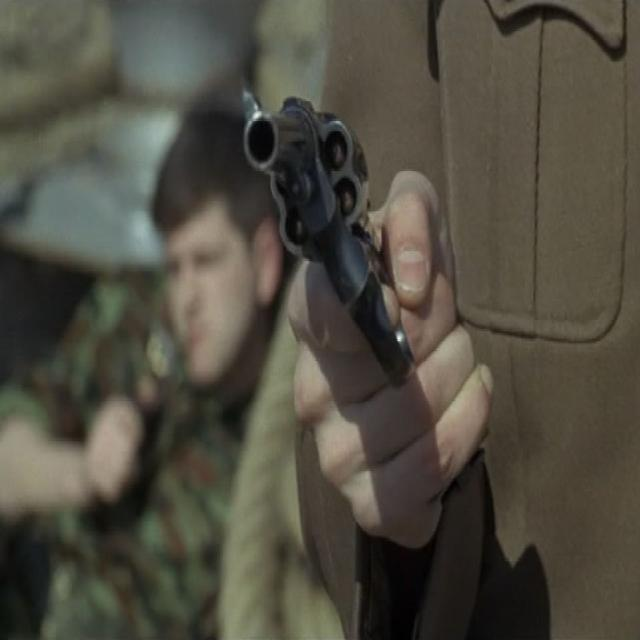gun-knife-thesis - v11 Yolov5 augmented: (232, 82, 483, 538)
